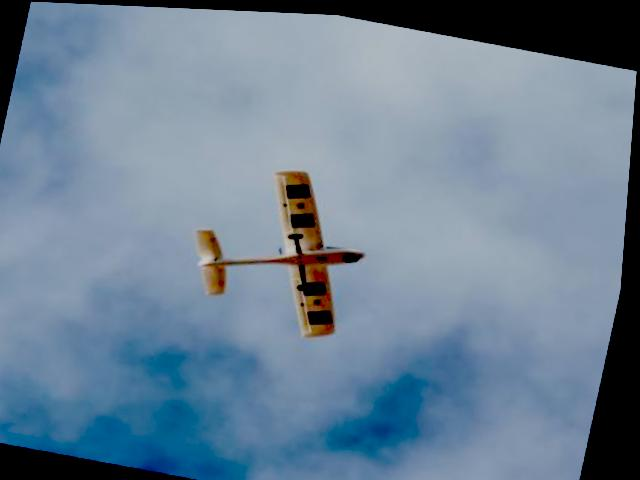uav: (178, 146, 380, 343)
